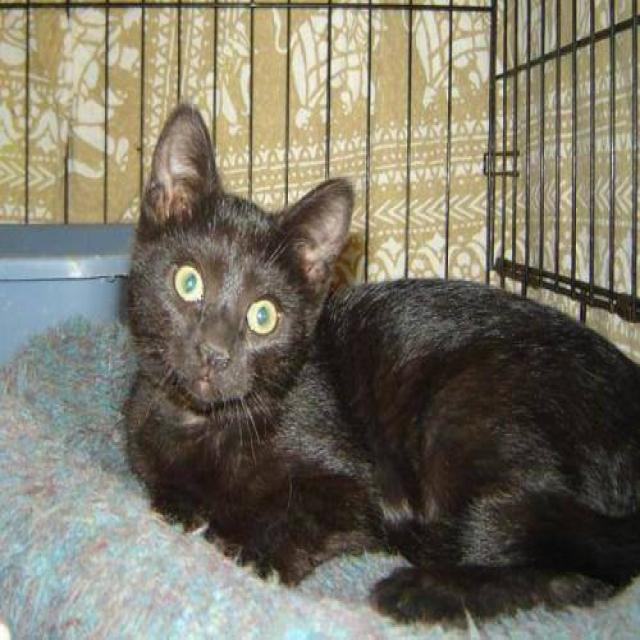cat: (117, 101, 638, 625)
